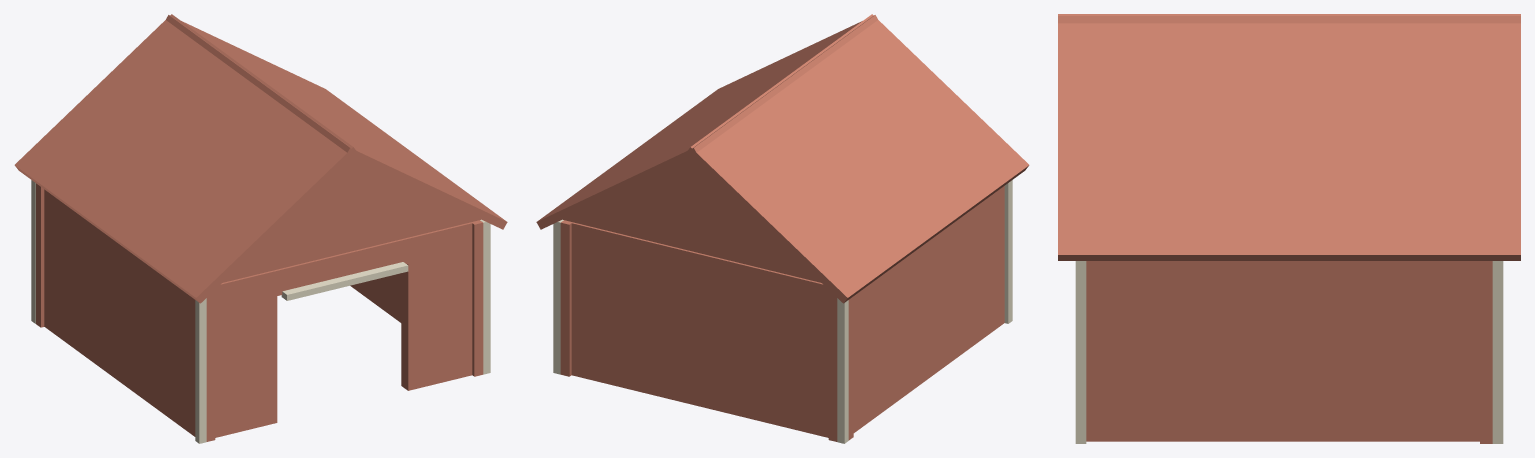
The model's file is cozy-farm-and-homestead-gable-barn-8ae6a2dd__19367.glb.
3 views of the same model, side by side, from view 1: azimuth 30°, elevation 25°; view 2: azimuth 150°, elevation 25°; view 3: azimuth 270°, elevation 25° (orthographic). The views are drawn at different scales.
Parts seen in each view (by area): view 1: gable-barn; view 2: gable-barn; view 3: gable-barn.
Boxes of the visible parts, <box> form: gable-barn: <box>14,14,507,443</box>; gable-barn: <box>536,14,1029,443</box>; gable-barn: <box>1058,14,1520,443</box>.
Size of the model in its own units: 6.43 by 5.25 by 6.5.
